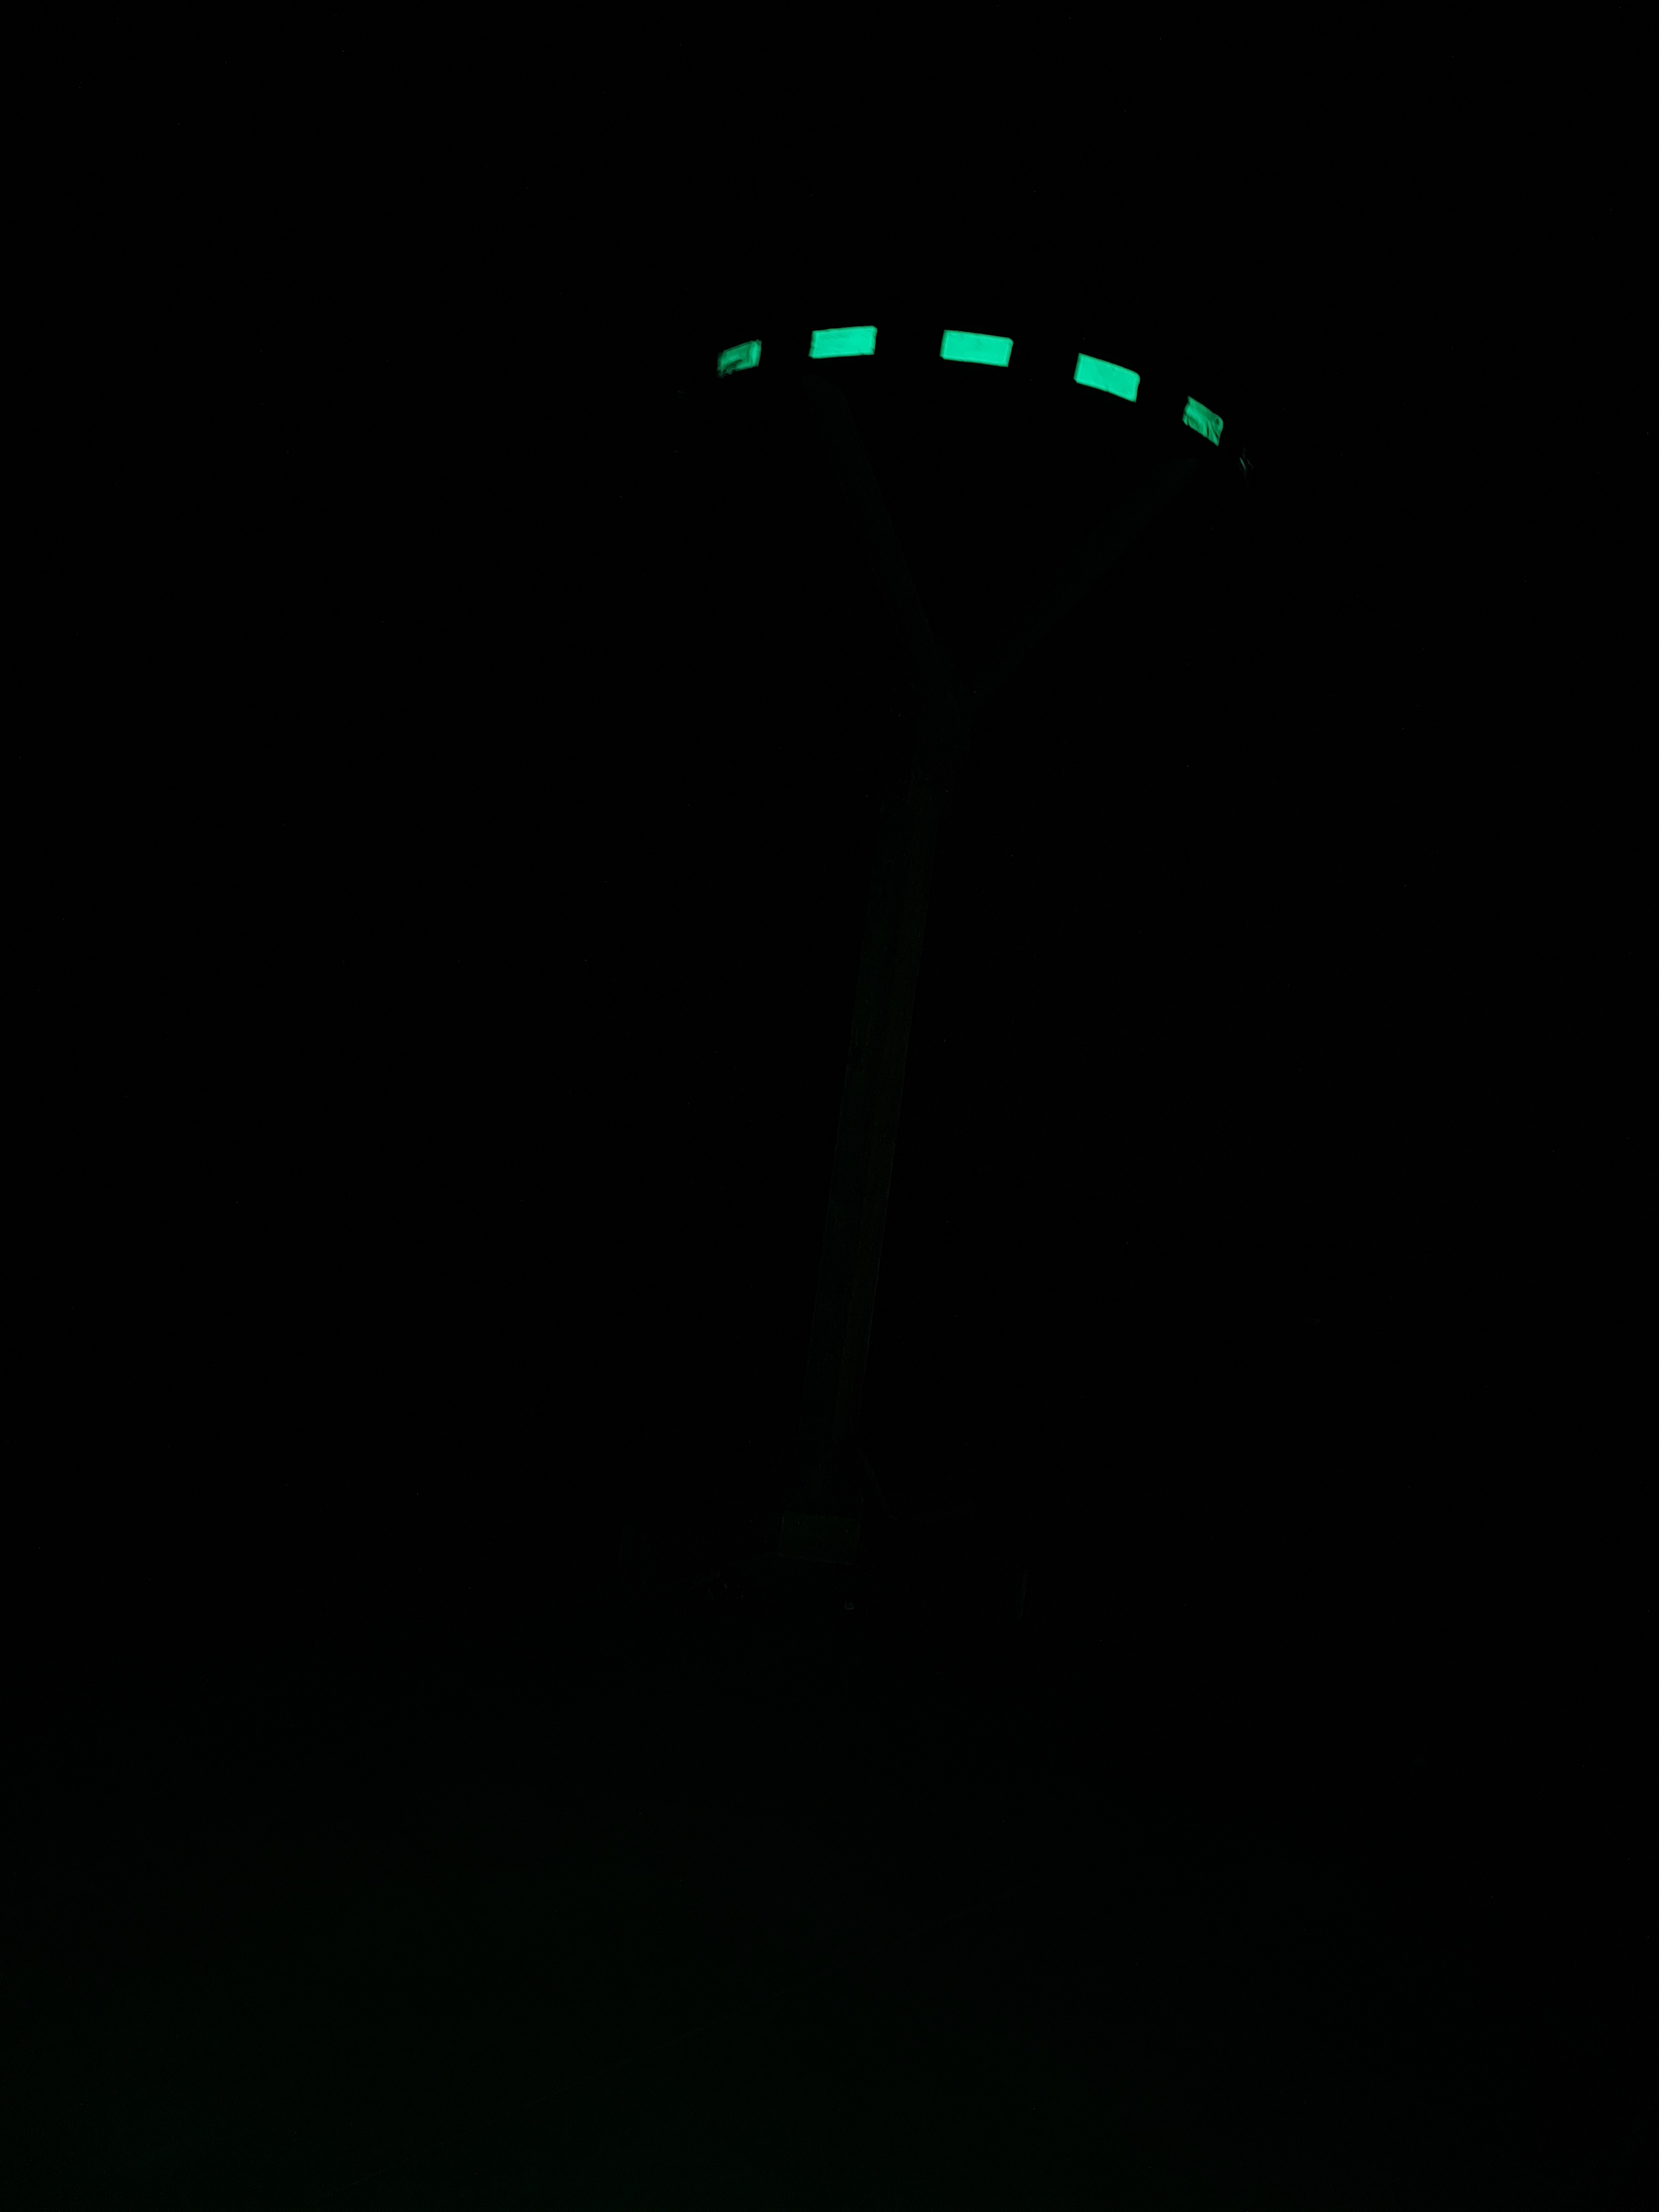hoop: (714, 320, 1222, 449)
